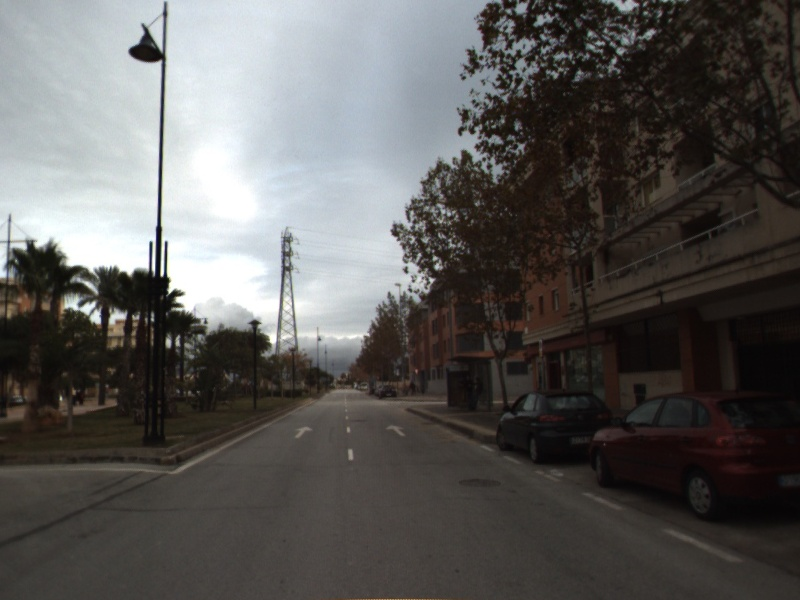STRAIGHT: (383, 423, 408, 438), (292, 424, 315, 440)
